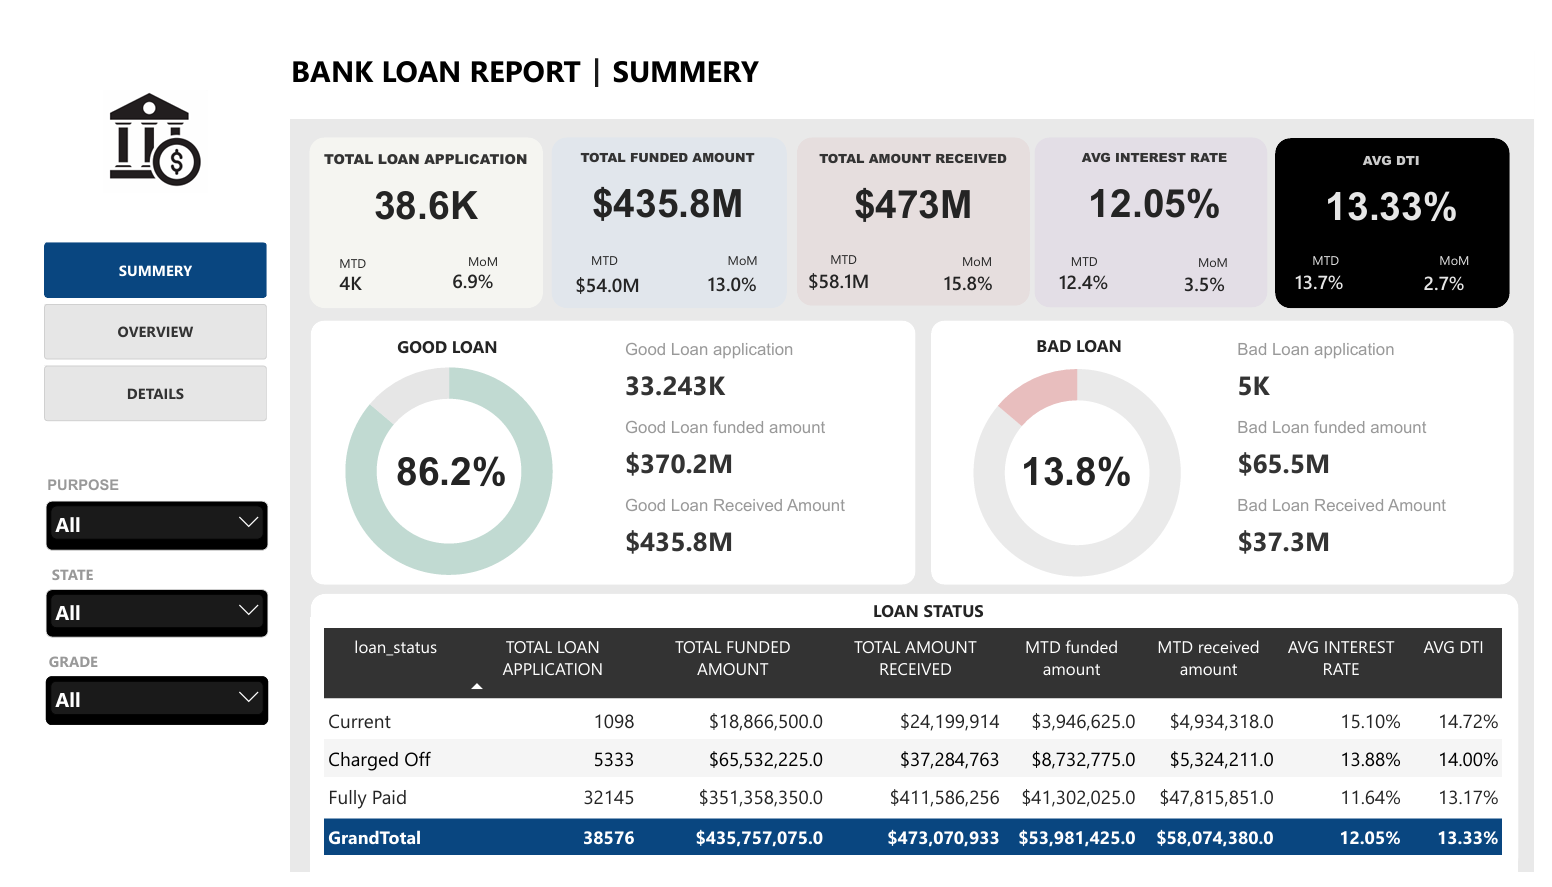

The page's visual inventory and layout, read from the dashboard file:
{"tool":"powerbi","page":{"name":"SUMMERY","canvas":[1920,1080],"ordinal":0},"visuals":[{"type":"shape","box":[0,0,1920.4,126.8],"z":0},{"type":"shape","box":[0,0,344,1080],"z":1000},{"type":"textbox","box":[345,40,380,61.7],"z":2000},{"type":"shape","box":[368.3,149.7,296,216],"z":3000},{"type":"cardVisual","fields":{"Data":["bank_loan.TOTAL LOAN APPLICATION"]},"box":[368.3,146,294.4,135.6],"z":4000},{"type":"cardVisual","fields":{"Data":["bank_loan.MTD"]},"box":[390.1,302.3,85,61.2],"z":5000},{"type":"cardVisual","fields":{"Data":["bank_loan.MoM"]},"box":[532.9,294.3,114.3,72.9],"z":6000},{"type":"shape","box":[674.8,149.8,298.6,215.7],"z":7000},{"type":"cardVisual","fields":{"Data":["bank_loan.TOTAL FUND"]},"box":[683.3,146,277.9,135.9],"z":8000},{"type":"cardVisual","fields":{"Data":["bank_loan.MTD funded amount"]},"box":[688.8,304.8,126.7,61],"z":9000},{"type":"textbox","box":[406.1,297.5,80.4,22.5],"z":10000},{"type":"textbox","box":[725,294.3,52.2,22.2],"z":11000},{"type":"cardVisual","fields":{"Data":["bank_loan.MoM funded amount"]},"box":[857.1,297.1,115.7,74.3],"z":12000},{"type":"textbox","box":[569.3,296.4,88.7,36.6],"z":13000},{"type":"textbox","box":[898.3,294.3,88.7,36.6],"z":14000},{"type":"shape","box":[985.5,150.2,295.7,212.9],"z":15000},{"type":"cardVisual","fields":{"Data":["bank_loan.TOTAL AMOUNT RECEIVED"]},"box":[984.1,147.3,297.8,135.6],"z":16000},{"type":"cardVisual","fields":{"Data":["bank_loan.MTD received amount"]},"box":[984.3,301.4,134.3,60],"z":17000},{"type":"textbox","box":[1028.1,293,43.3,23.3],"z":18000},{"type":"cardVisual","fields":{"Data":["bank_loan.MoM received amount"]},"box":[1155.7,295.7,118.6,72.9],"z":19000},{"type":"textbox","box":[1194.8,296.4,88.7,36.6],"z":20000},{"type":"shape","box":[1286.7,150,295,215],"z":21000},{"type":"cardVisual","fields":{"Data":["bank_loan.AVG INTEREST RATE"]},"box":[1300,146,277.9,135.9],"z":22000},{"type":"cardVisual","fields":{"Data":["bank_loan.MTD avg interest rate"]},"box":[1302,301.4,126.7,61],"z":23000},{"type":"textbox","box":[1333.2,296.1,45.4,23.1],"z":24000},{"type":"cardVisual","fields":{"Data":["bank_loan.MoM avg interest rate"]},"box":[1460,297.1,108.6,72.9],"z":25000},{"type":"textbox","box":[1493.6,297.1,55.7,37.1],"z":26000},{"type":"shape","box":[1591.9,151.2,297.1,214.3],"z":27000},{"type":"cardVisual","fields":{"Data":["bank_loan.AVG DTI"]},"box":[1600.3,149.8,277.9,135.9],"z":28000},{"type":"cardVisual","fields":{"Data":["bank_loan.MTD avg dti"]},"box":[1601.4,301.4,138.6,61.4],"z":29000},{"type":"textbox","box":[1639,294.1,46.2,23.1],"z":30000},{"type":"cardVisual","fields":{"Data":["bank_loan.MoM avg dti"]},"box":[1764.3,295.7,107.1,72.9],"z":31000},{"type":"textbox","box":[1800.5,294.1,88.7,36.6],"z":32000},{"type":"shape","box":[370,382,766,334],"z":33000},{"type":"donutChart","fields":{"Category":["bank_loan.Good v Bad Loan"],"Y":["bank_loan.TOTAL LOAN APPLICATION"]},"box":[364.7,389.3,360,368.3],"z":34000},{"type":"cardVisual","fields":{"Data":["bank_loan.Good Loan %"]},"box":[409.5,495.7,277.9,135.9],"z":35000},{"type":"textbox","box":[475.1,400.1,135.5,30],"z":36000},{"type":"cardVisual","fields":{"Data":["bank_loan.Good Loan application","bank_loan.Good Loan funded amount","bank_loan.Good Loan Received Amount"]},"box":[752,398,356,296],"z":37000},{"type":"shape","box":[1156,382,738,334],"z":38000},{"type":"donutChart","fields":{"Category":["bank_loan.Good v Bad Loan"],"Y":["bank_loan.TOTAL LOAN APPLICATION"]},"box":[1160.7,391.3,360,368.3],"z":39000},{"type":"cardVisual","fields":{"Data":["bank_loan.Bad Loan %"]},"box":[1201.5,495.7,277.9,135.9],"z":40000},{"type":"textbox","box":[1275.8,399.4,135.5,30],"z":41000},{"type":"cardVisual","fields":{"Data":["bank_loan.Bad Loan application","bank_loan.Bad Loan funded amount","bank_loan.Bad Loan Received Amount"]},"box":[1528,398,350,296],"z":42000},{"type":"shape","box":[370,728,1530,352],"z":43000},{"type":"tableEx","fields":{"Values":["bank_loan.loan_status","bank_loan.TOTAL LOAN APPLICATION","bank_loan.TOTAL FUNDED AMOUNT","bank_loan.TOTAL AMOUNT RECEIVED","bank_loan.MTD funded amount","bank_loan.MTD received amount","bank_loan.AVG INTEREST RATE","bank_loan.AVG DTI"]},"box":[370,758.3,1530,321.7],"z":44000},{"type":"textbox","box":[1068.9,734.4,166.7,38.9],"z":45000},{"type":"slicer","fields":{"Values":["bank_loan.purpose"]},"box":[34.3,609.7,282,63],"z":46000},{"type":"textbox","box":[19.3,578.7,130,62.5],"z":47000},{"type":"slicer","fields":{"Values":["bank_loan.address_state"]},"box":[34.3,721.7,282,61],"z":48000},{"type":"textbox","box":[3.3,690.5,130,62.5],"z":49000},{"type":"slicer","fields":{"Values":["bank_loan.grade"]},"box":[34.3,831.7,282,62],"z":50000},{"type":"textbox","box":[4,799.8,130,62.5],"z":51000},{"type":"textbox","box":[752.2,40,200,61.1],"z":52000},{"type":"shape","box":[695,47.5,73.8,40],"z":53000},{"type":"pageNavigator","box":[31.6,282.5,282.5,227.5],"z":54000},{"type":"image","box":[88.3,90,170,130],"z":55000}]}

Visuals, with their boxes in screenshot pixels (x1, y1, x2, y2), scaled from the page's 1920x1080 canvas onto the 1552x887 screenshot:
shape: bbox(0, 0, 1551, 104)
shape: bbox(0, 0, 278, 886)
textbox: bbox(279, 33, 586, 84)
shape: bbox(298, 123, 537, 300)
cardVisual - bank_loan.TOTAL LOAN APPLICATION: bbox(298, 120, 536, 231)
cardVisual - bank_loan.MTD: bbox(315, 248, 384, 299)
cardVisual - bank_loan.MoM: bbox(431, 242, 523, 302)
shape: bbox(545, 123, 787, 300)
cardVisual - bank_loan.TOTAL FUND: bbox(552, 120, 777, 232)
cardVisual - bank_loan.MTD funded amount: bbox(557, 250, 659, 300)
textbox: bbox(328, 244, 393, 263)
textbox: bbox(586, 242, 628, 260)
cardVisual - bank_loan.MoM funded amount: bbox(693, 244, 786, 305)
textbox: bbox(460, 243, 532, 273)
textbox: bbox(726, 242, 798, 272)
shape: bbox(797, 123, 1036, 298)
cardVisual - bank_loan.TOTAL AMOUNT RECEIVED: bbox(795, 121, 1036, 232)
cardVisual - bank_loan.MTD received amount: bbox(796, 248, 904, 297)
textbox: bbox(831, 241, 866, 260)
cardVisual - bank_loan.MoM received amount: bbox(934, 243, 1030, 303)
textbox: bbox(966, 243, 1037, 273)
shape: bbox(1040, 123, 1279, 300)
cardVisual - bank_loan.AVG INTEREST RATE: bbox(1051, 120, 1275, 232)
cardVisual - bank_loan.MTD avg interest rate: bbox(1052, 248, 1155, 298)
textbox: bbox(1078, 243, 1114, 262)
cardVisual - bank_loan.MoM avg interest rate: bbox(1180, 244, 1268, 304)
textbox: bbox(1207, 244, 1252, 274)
shape: bbox(1287, 124, 1527, 300)
cardVisual - bank_loan.AVG DTI: bbox(1294, 123, 1518, 235)
cardVisual - bank_loan.MTD avg dti: bbox(1294, 248, 1406, 298)
textbox: bbox(1325, 242, 1362, 261)
cardVisual - bank_loan.MoM avg dti: bbox(1426, 243, 1513, 303)
textbox: bbox(1455, 242, 1527, 272)
shape: bbox(299, 314, 918, 588)
donutChart - bank_loan.Good v Bad Loan x bank_loan.TOTAL LOAN APPLICATION: bbox(295, 320, 586, 622)
cardVisual - bank_loan.Good Loan %: bbox(331, 407, 556, 519)
textbox: bbox(384, 329, 494, 353)
cardVisual - bank_loan.Good Loan application x bank_loan.Good Loan funded amount: bbox(608, 327, 896, 570)
shape: bbox(934, 314, 1531, 588)
donutChart - bank_loan.Good v Bad Loan x bank_loan.TOTAL LOAN APPLICATION: bbox(938, 321, 1229, 624)
cardVisual - bank_loan.Bad Loan %: bbox(971, 407, 1196, 519)
textbox: bbox(1031, 328, 1141, 353)
cardVisual - bank_loan.Bad Loan application x bank_loan.Bad Loan funded amount: bbox(1235, 327, 1518, 570)
shape: bbox(299, 598, 1536, 886)
tableEx - bank_loan.loan_status x bank_loan.TOTAL LOAN APPLICATION: bbox(299, 623, 1536, 886)
textbox: bbox(864, 603, 999, 635)
slicer - bank_loan.purpose: bbox(28, 501, 256, 552)
textbox: bbox(16, 475, 121, 527)
slicer - bank_loan.address_state: bbox(28, 593, 256, 643)
textbox: bbox(3, 567, 108, 618)
slicer - bank_loan.grade: bbox(28, 683, 256, 734)
textbox: bbox(3, 657, 108, 708)
textbox: bbox(608, 33, 770, 83)
shape: bbox(562, 39, 621, 72)
pageNavigator: bbox(26, 232, 254, 419)
image: bbox(71, 74, 209, 181)
